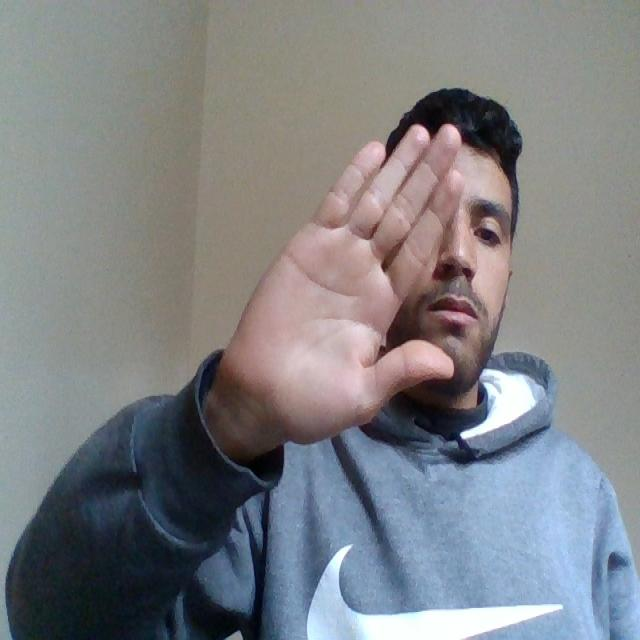Hello: (198, 120, 475, 449)
